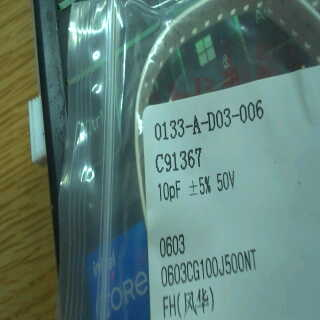10pF: (158, 177, 184, 204)
